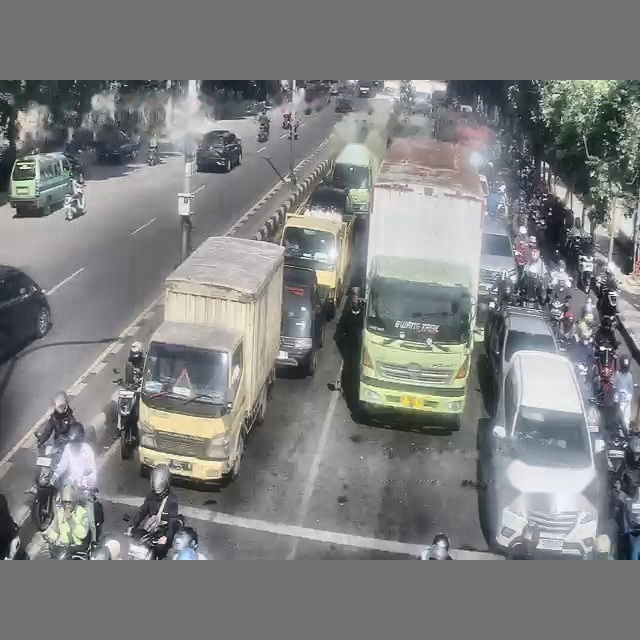Mobil: (481, 351, 603, 558), (485, 305, 558, 396), (276, 264, 326, 375), (0, 265, 50, 356), (478, 218, 516, 308), (196, 129, 242, 172), (94, 128, 139, 162), (305, 185, 347, 214), (63, 151, 84, 181), (335, 94, 353, 112)
Motor: (32, 440, 65, 530), (114, 363, 140, 459), (593, 345, 615, 409), (127, 525, 166, 560), (577, 252, 594, 292), (63, 193, 83, 220), (147, 147, 159, 166), (257, 124, 269, 142)
Truk: (359, 136, 484, 429), (138, 236, 283, 483), (280, 186, 355, 319)
